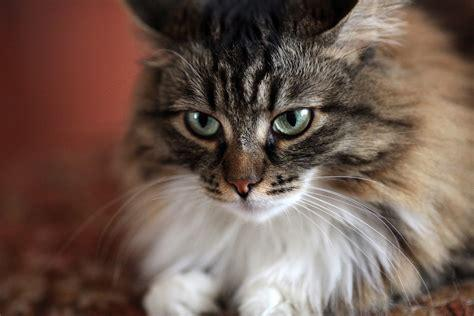cat: (120, 1, 474, 316)
